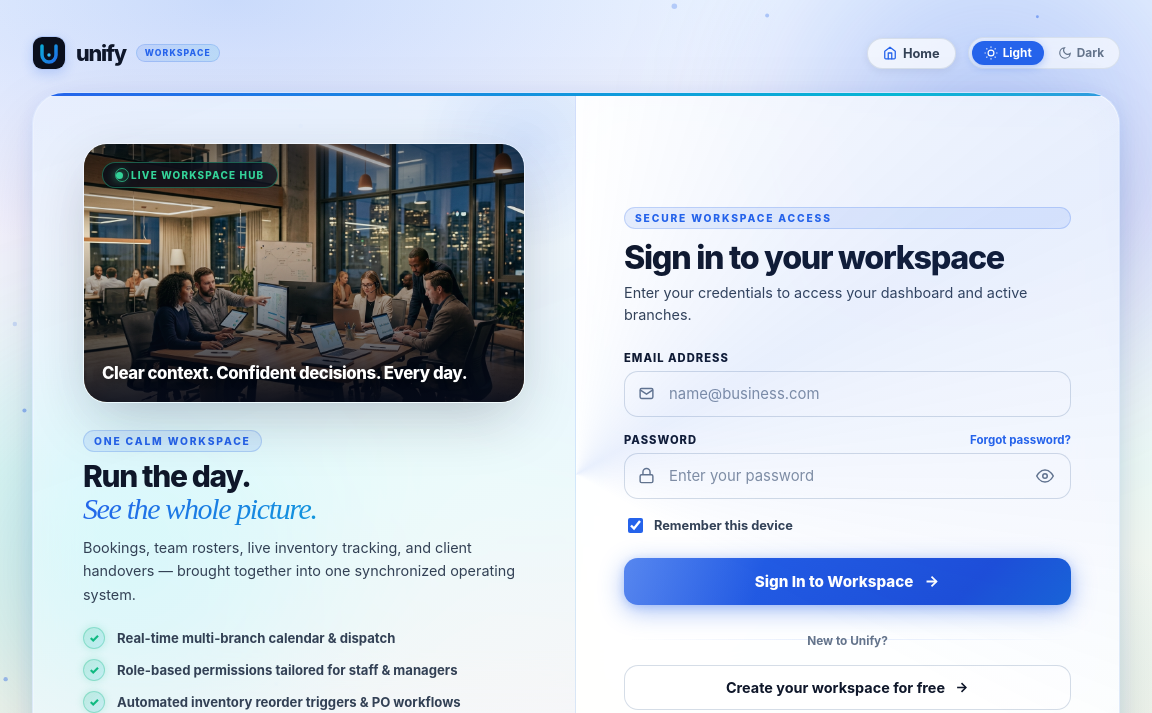
LoginPage › says the server is unreachable rather than blaming the password
Type "admin@test.local" into the field labelled "Email address" at (848, 394), box [624,371,1071,417]
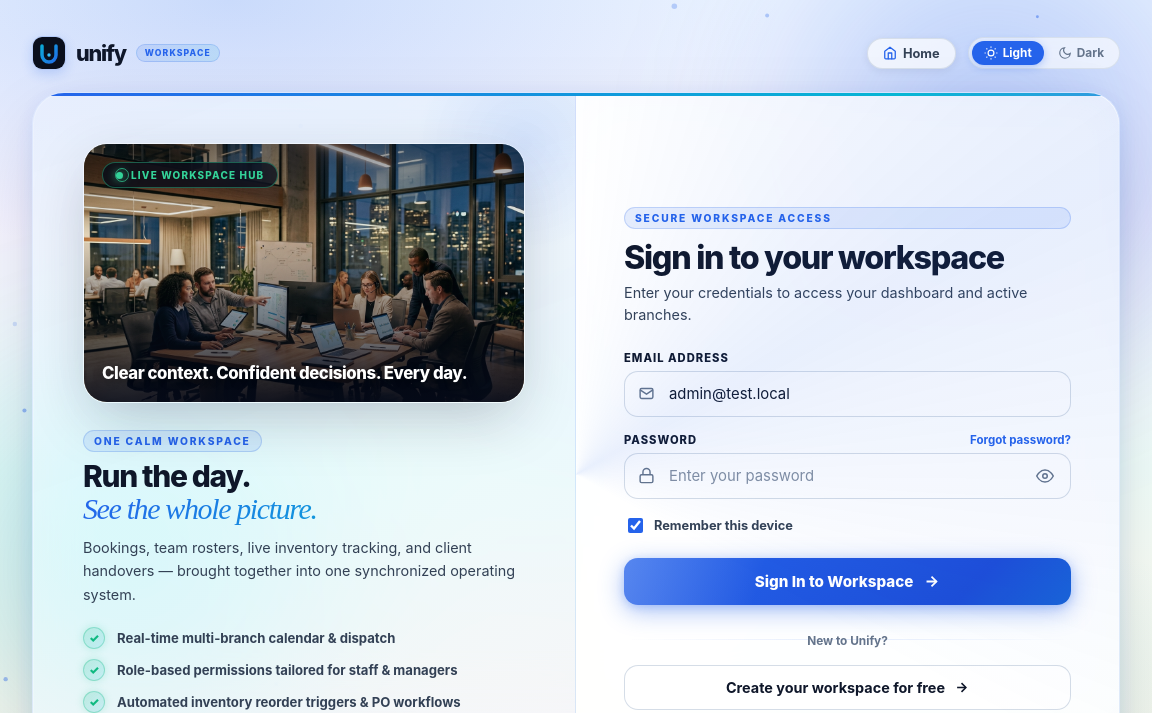
Type "Secret123!" into the password field labelled "Password" at (848, 476), box [624,453,1071,499]
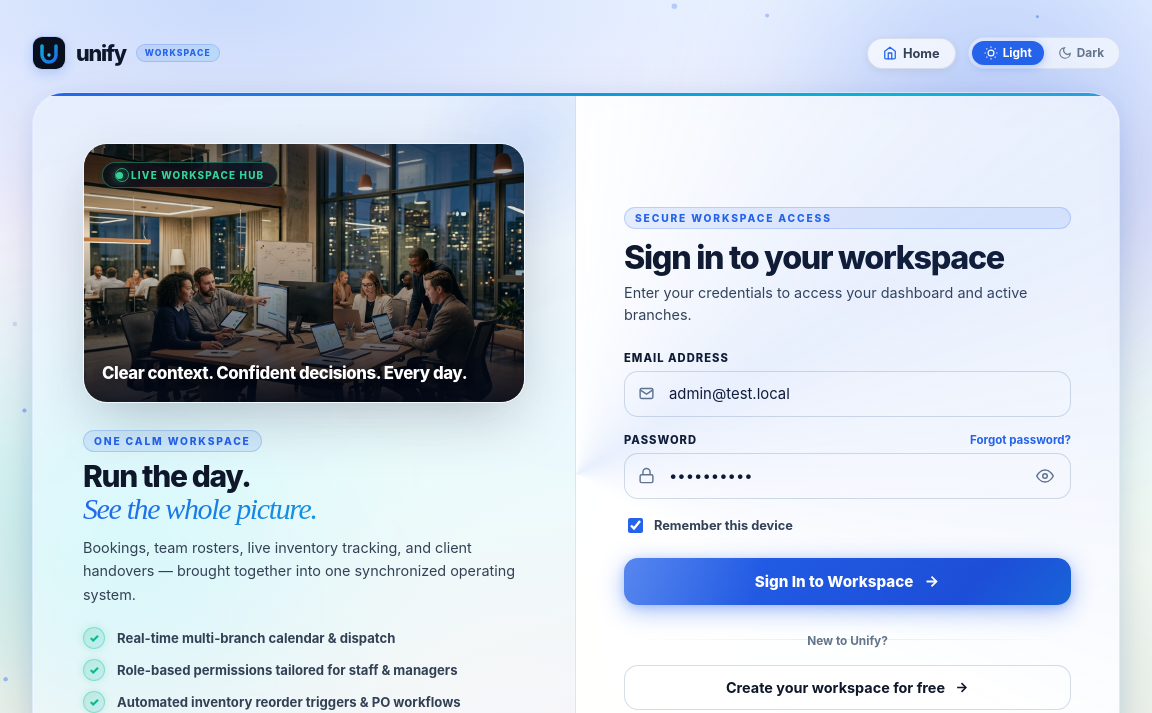
Click the button "Sign In to Workspace" at (848, 581), box [624,558,1071,605]
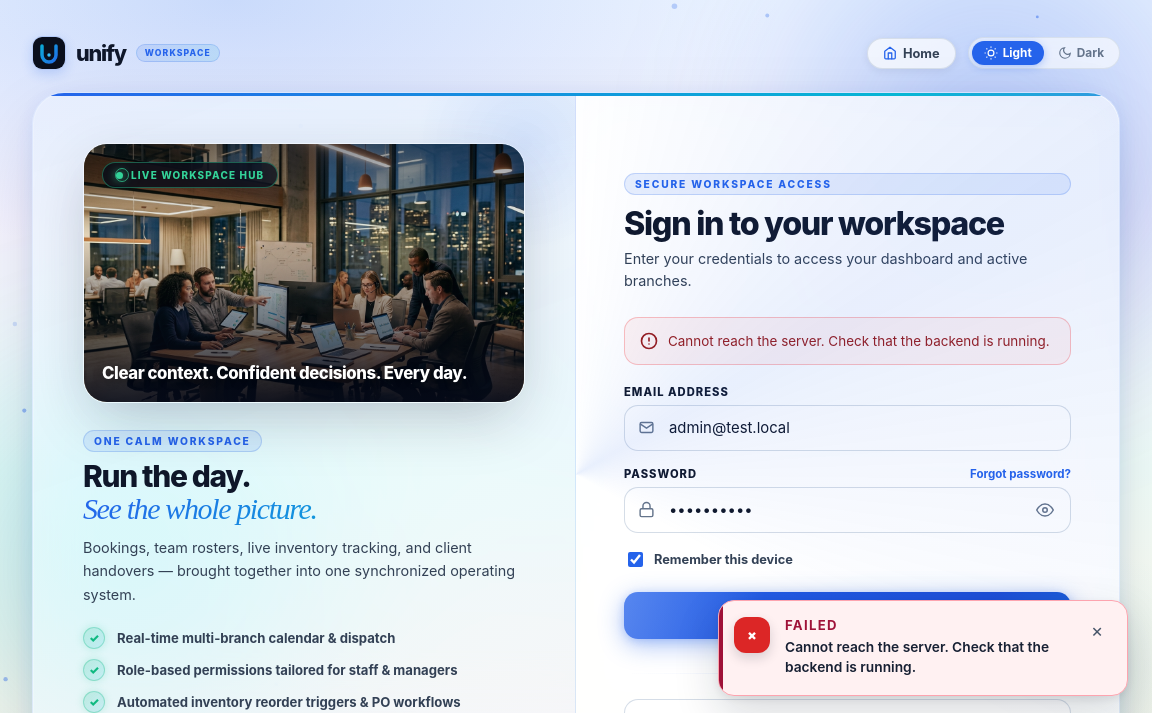
Result: the text "Cannot reach the server. Check that the backend is running." below "Sign in to your workspace" is shown at [668,333,1050,349]
